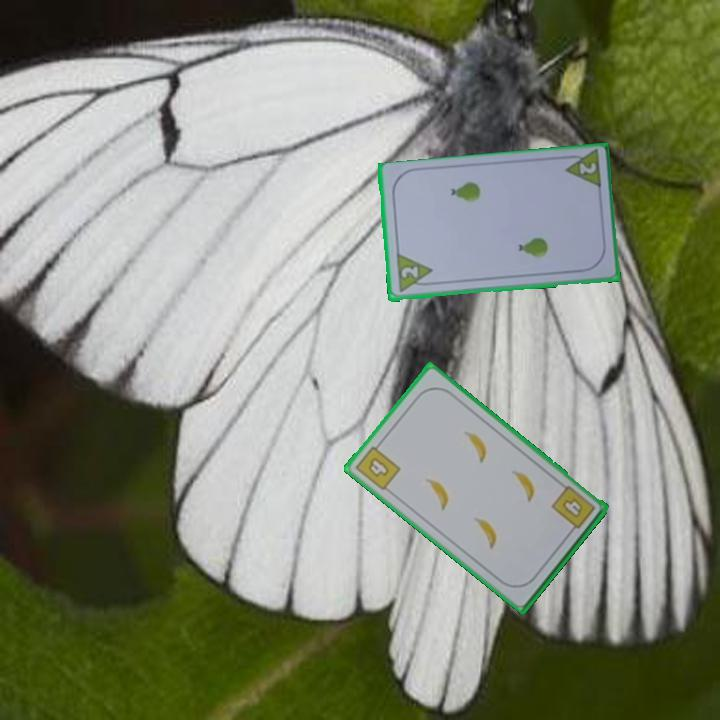2p: (559, 148, 604, 192), (397, 263, 421, 281)
4b: (352, 438, 403, 493), (547, 482, 598, 537)
